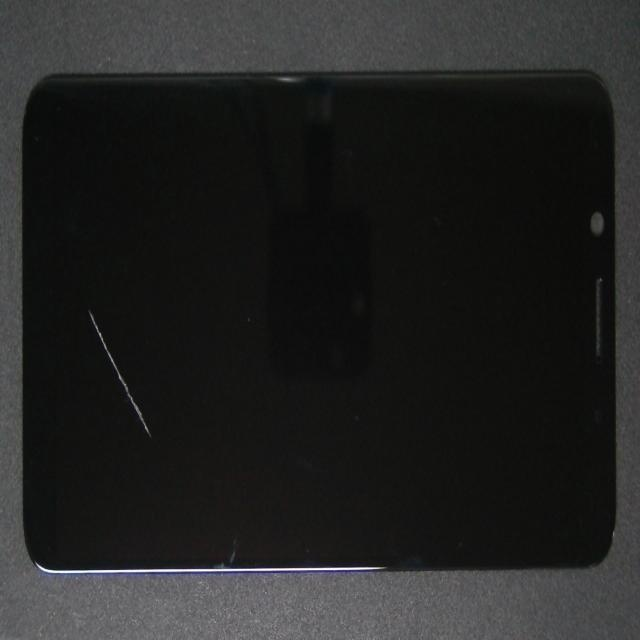scratch: (118, 279, 204, 575)
